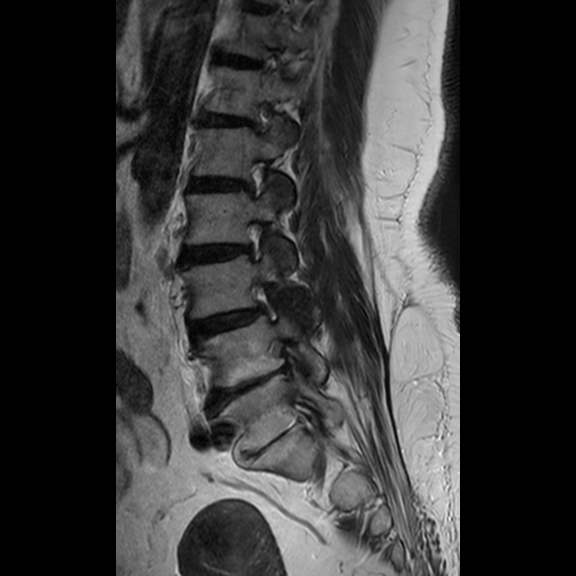LFS1: (239, 275, 292, 330), (235, 212, 277, 269), (237, 150, 279, 205)
